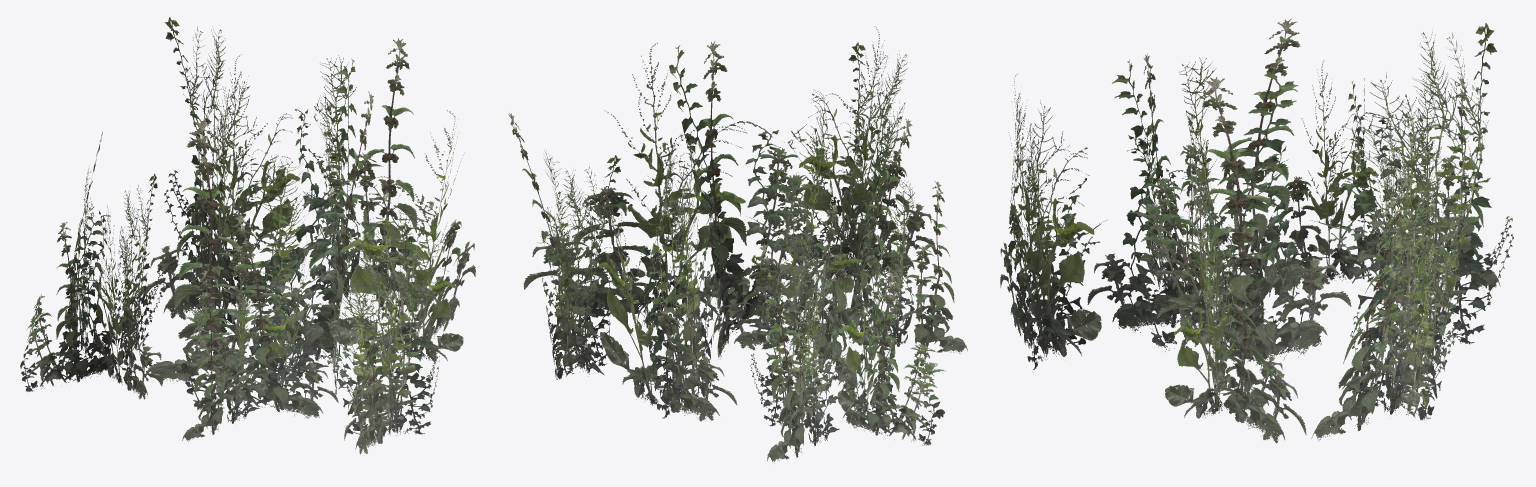
The model's file is proc_forest_ivy_01.FBX.
3 renders of one model, left to right at view 1: azimuth 30°, elevation 25°; view 2: azimuth 150°, elevation 25°; view 3: azimuth 270°, elevation 25°, orthographic. The views are drawn at different scales.
Parts seen in each view (by area): view 1: proc_forest_ivy_01; view 2: proc_forest_ivy_01; view 3: proc_forest_ivy_01.
Part boxes in pixels (<box>): proc_forest_ivy_01: <box>20,17,475,454</box>; proc_forest_ivy_01: <box>508,26,967,462</box>; proc_forest_ivy_01: <box>1000,18,1513,443</box>.
Bounding box in the file's own units: 2.75 × 2.52 × 1.81.
Materials: 1 (1 with a texture image).
